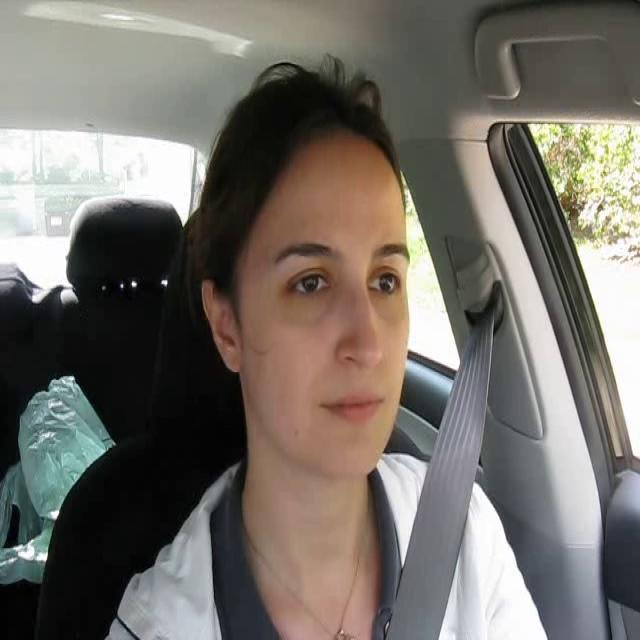close: (315, 385, 397, 430)
